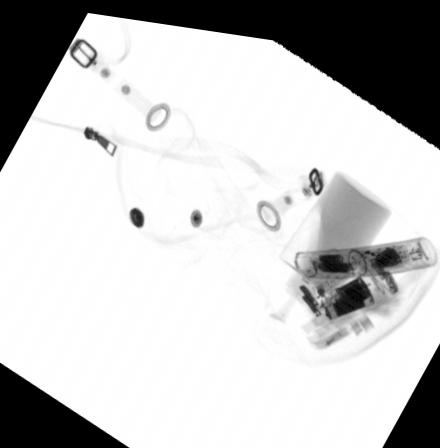Baton: (291, 222, 439, 271)
